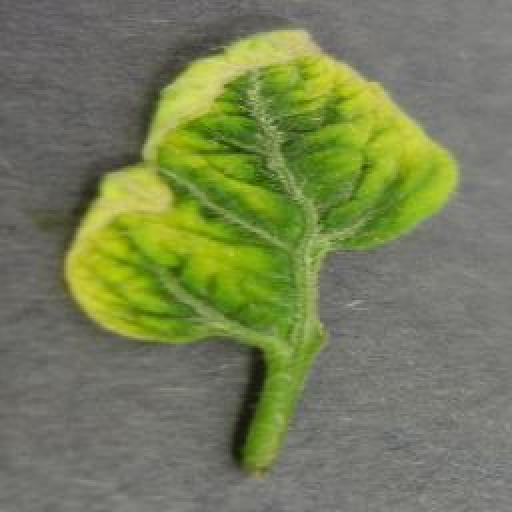disease_tomato: (61, 30, 456, 346)
